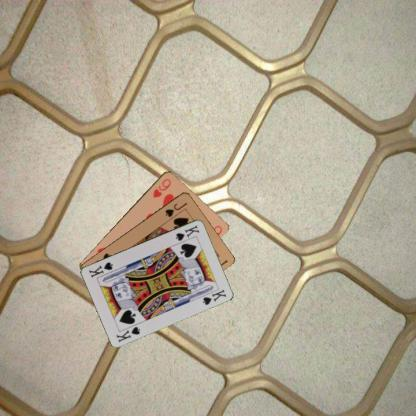9h: (150, 176, 172, 198)
Js: (162, 200, 188, 218)
Ks: (172, 222, 200, 242), (114, 324, 142, 344)
